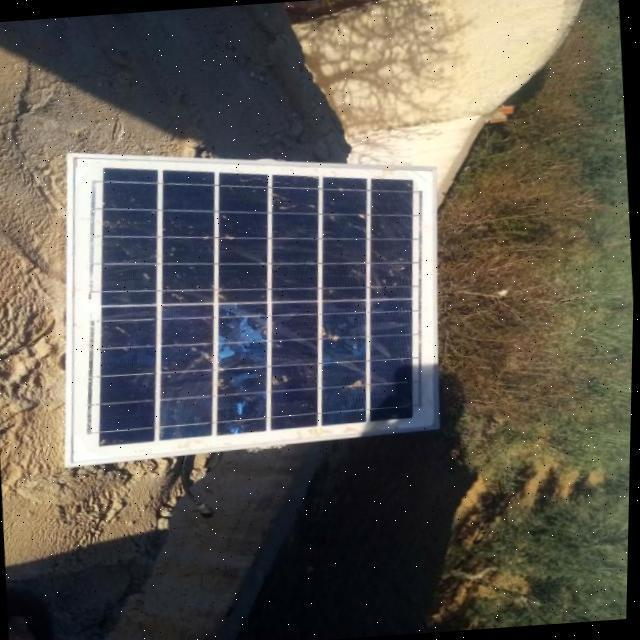Normal Solar Panel: (42, 128, 453, 466)
